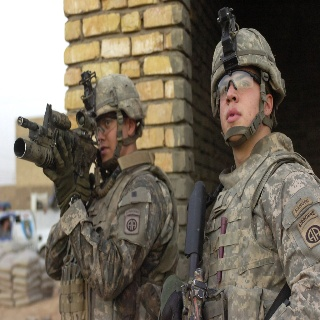rifle: (10, 104, 105, 202)
